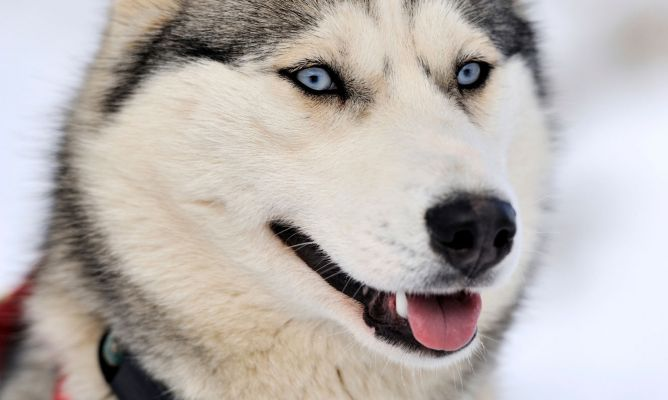husky: (58, 5, 560, 394)
